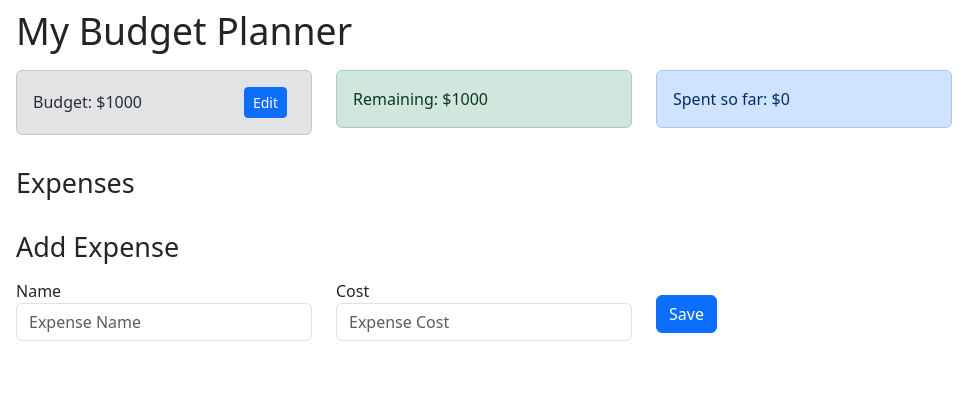
Test case: Create an Expense
The width and height of the screenshot is (969, 406).
Expected: the field with placeholder "Expense Cost" is shown, [336,304,632,342]
Expected: the button "Save" is shown, [656,296,717,334]
# Create the expense
Type "Movie" into the field with placeholder "Expense Name".
click(164, 322); type("Movie")  # box [16,304,312,342]
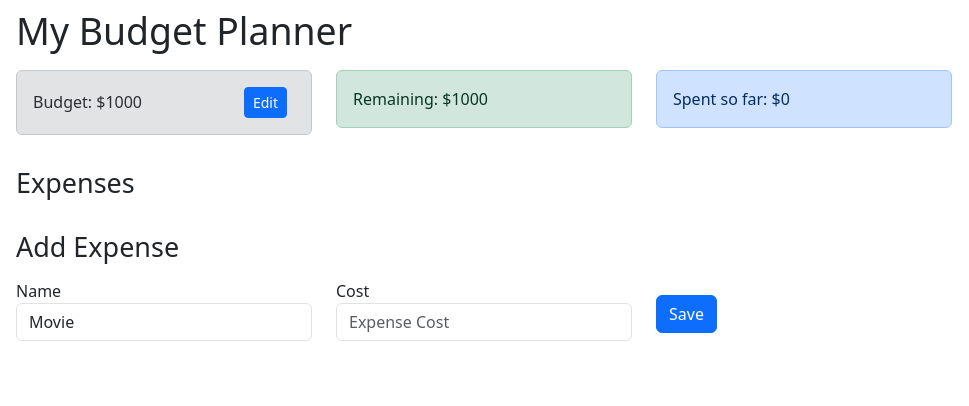
Type "20" into the field with placeholder "Expense Cost".
click(484, 322); type("20")  # box [336,304,632,342]
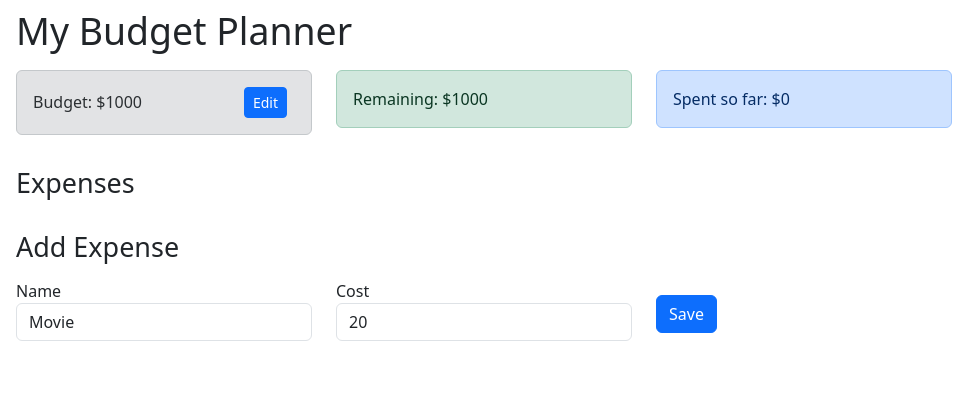
Click the button "Save".
click(686, 314)  # box [656,296,717,334]
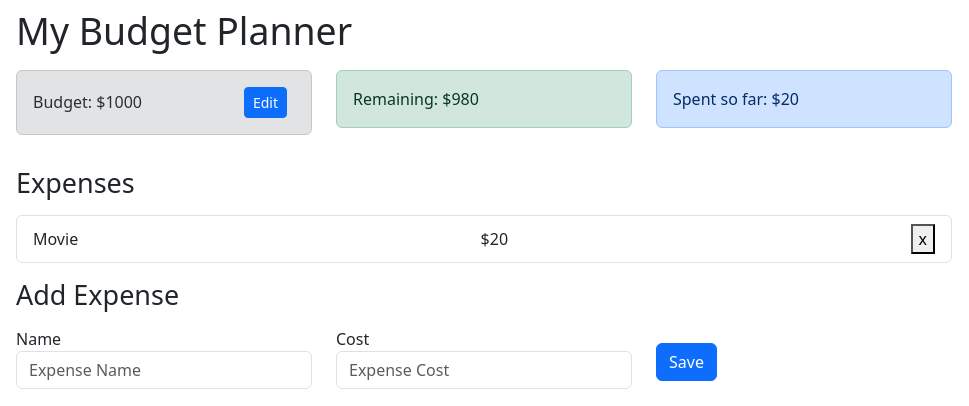
Result: the text "Movie" is shown at [33,227,78,251]
Result: the button with test id "expense1" is shown at [910,224,935,254]
Result: the text with test id "spent" shows "20" at [781,88,799,110]
